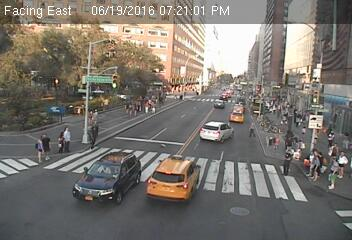neg: (163, 31, 183, 58), (227, 80, 246, 105), (180, 113, 199, 138), (10, 34, 28, 58), (222, 38, 240, 61), (37, 61, 54, 84), (283, 42, 300, 65), (206, 115, 222, 136), (158, 115, 173, 136), (137, 154, 151, 173), (62, 48, 76, 66), (86, 44, 99, 61), (183, 82, 195, 99), (220, 170, 232, 186), (117, 46, 129, 61), (128, 117, 139, 133), (252, 183, 263, 198), (47, 186, 57, 199), (186, 164, 194, 174), (261, 17, 269, 27), (91, 183, 97, 192)
pos: (320, 156, 347, 192), (307, 149, 332, 183), (53, 122, 77, 154), (277, 142, 300, 173), (332, 149, 351, 179), (35, 132, 56, 159), (29, 137, 48, 162), (303, 150, 322, 175), (83, 121, 101, 145), (51, 130, 67, 151), (324, 129, 339, 148), (246, 121, 258, 137), (88, 106, 97, 119), (300, 126, 308, 136)
